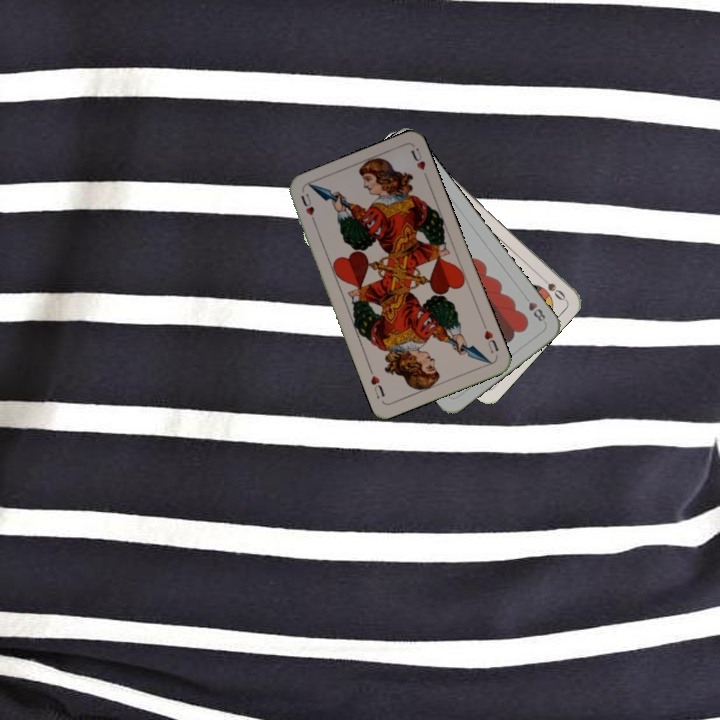H8: (520, 291, 548, 324)
HU: (297, 190, 319, 228), (479, 320, 501, 356)
SO: (535, 272, 568, 303)
